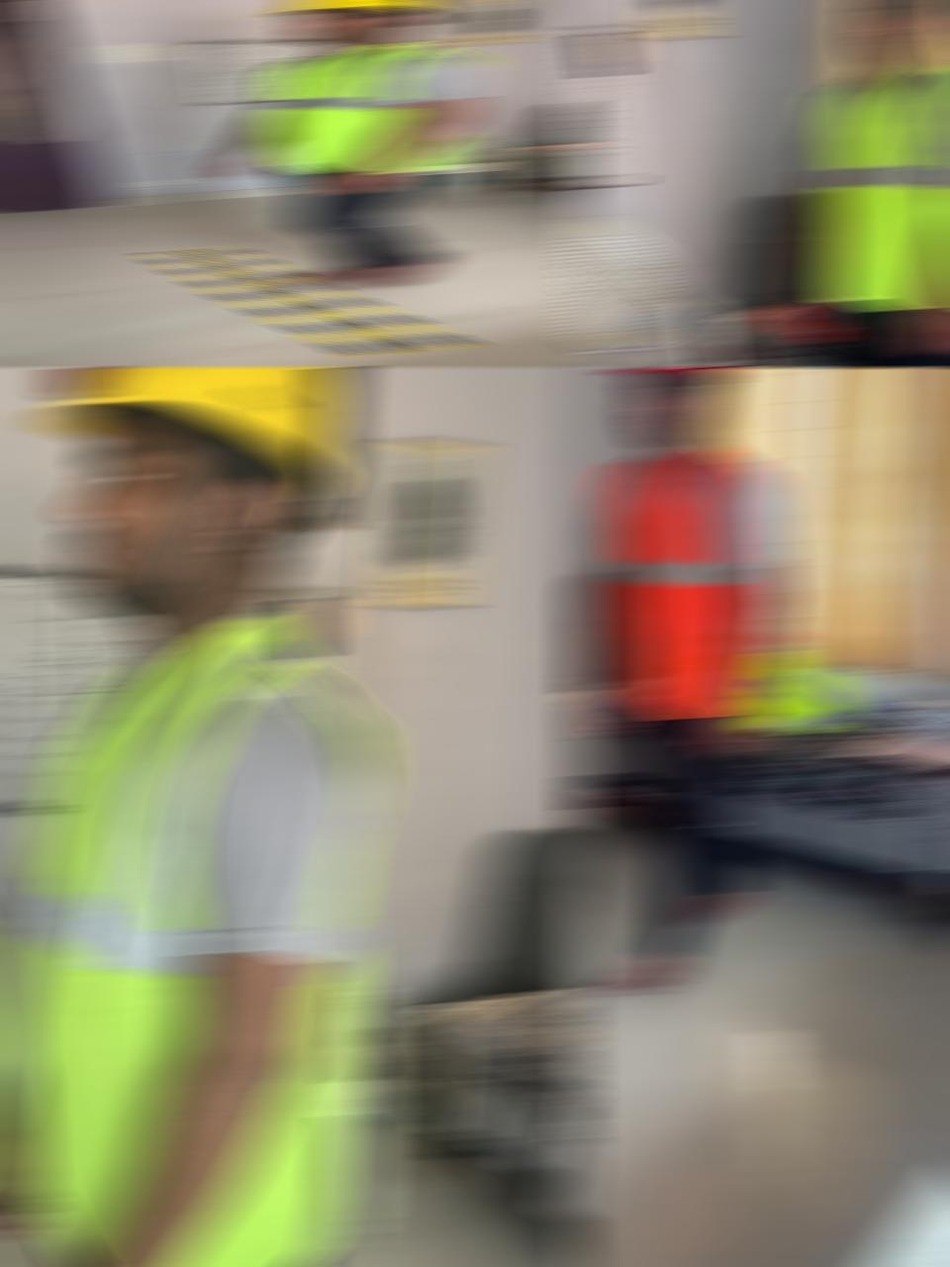BorderLine: (144, 245, 476, 357)
Helmet: (28, 368, 339, 501), (263, 1, 438, 15), (608, 368, 733, 386)
No_Helmet: (849, 0, 947, 74)
Person: (0, 367, 388, 1266), (583, 368, 789, 992), (212, 0, 490, 287), (785, 0, 950, 366)
Vest: (10, 606, 388, 1267), (598, 442, 782, 719), (803, 63, 950, 315), (262, 42, 490, 172)
